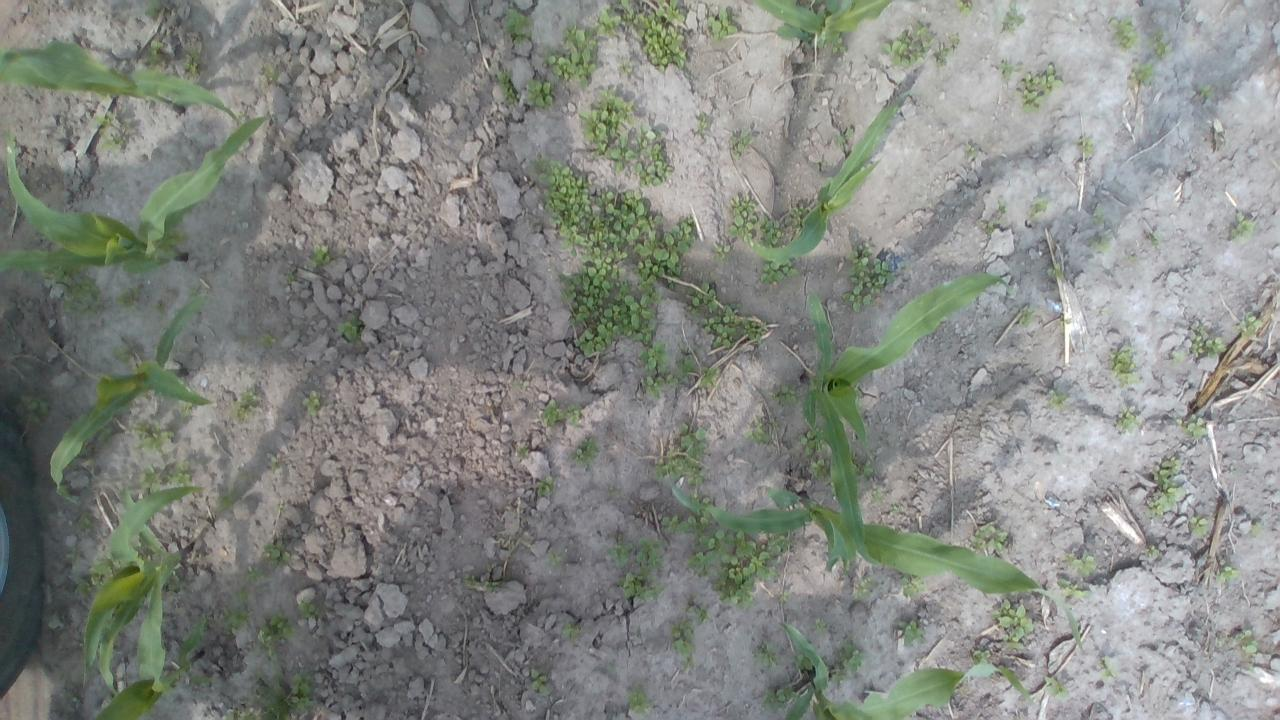Maize: (669, 480, 1086, 656), (800, 273, 1014, 568), (0, 116, 269, 274), (48, 294, 211, 504), (776, 620, 1036, 720), (82, 484, 198, 694), (751, 98, 897, 264), (0, 40, 239, 127), (91, 567, 206, 720), (751, 0, 893, 45)
Weeds: (588, 187, 698, 291), (557, 250, 662, 358), (686, 528, 790, 608), (526, 155, 598, 257), (620, 0, 688, 75), (578, 88, 636, 174), (222, 672, 316, 720), (544, 23, 602, 90), (607, 536, 665, 603), (840, 244, 893, 314), (652, 424, 709, 484), (624, 122, 671, 187), (876, 21, 934, 68), (1013, 61, 1065, 113), (988, 597, 1034, 652), (698, 300, 744, 352), (54, 268, 102, 316), (73, 552, 118, 600), (1146, 458, 1180, 518), (254, 610, 300, 650), (1184, 324, 1228, 362), (726, 195, 759, 243), (670, 618, 698, 673), (134, 418, 176, 454), (832, 642, 864, 687), (1107, 344, 1140, 386), (683, 282, 720, 319), (94, 112, 126, 154), (1105, 16, 1142, 52), (660, 510, 712, 535), (225, 590, 253, 634), (704, 8, 740, 42), (970, 524, 1010, 554), (757, 258, 801, 284), (1234, 628, 1260, 672), (332, 314, 368, 344), (638, 342, 671, 374), (19, 393, 53, 424), (760, 684, 800, 710), (260, 538, 292, 570), (757, 212, 785, 248), (230, 389, 259, 423), (642, 373, 678, 400), (506, 9, 532, 45), (739, 316, 770, 346), (1174, 412, 1208, 439), (592, 8, 622, 38), (522, 80, 553, 108), (982, 200, 1008, 233), (166, 459, 194, 489), (1228, 212, 1258, 240), (624, 686, 652, 716), (540, 397, 566, 428), (308, 244, 336, 272), (897, 619, 926, 646), (139, 462, 162, 496), (742, 418, 772, 444), (1001, 0, 1025, 32), (729, 129, 754, 159), (1126, 61, 1154, 87), (900, 570, 926, 598), (784, 204, 808, 234), (798, 428, 822, 458), (1066, 554, 1096, 578), (1084, 229, 1113, 253), (1026, 196, 1050, 225), (574, 436, 598, 465), (496, 71, 516, 105), (754, 640, 780, 666), (773, 382, 800, 407), (1114, 404, 1138, 432), (674, 354, 698, 382), (179, 48, 201, 78), (806, 456, 831, 482), (852, 575, 877, 601), (213, 488, 240, 512), (1147, 31, 1170, 59), (241, 563, 268, 586), (146, 38, 168, 66), (528, 666, 550, 694), (112, 286, 142, 306), (1213, 559, 1238, 583), (164, 565, 184, 594), (1044, 675, 1069, 698), (1236, 312, 1258, 338), (302, 390, 321, 418), (296, 598, 320, 620), (827, 30, 848, 55), (1044, 389, 1068, 410), (1189, 516, 1211, 538), (686, 605, 710, 625), (996, 58, 1019, 78), (932, 43, 952, 66), (852, 461, 876, 480), (1059, 580, 1083, 599), (697, 366, 719, 386), (1048, 258, 1066, 282), (714, 241, 734, 262), (186, 673, 212, 689), (536, 478, 556, 498), (833, 126, 855, 144), (968, 648, 990, 666), (260, 63, 280, 82), (1090, 206, 1108, 226), (111, 345, 132, 362), (1098, 656, 1114, 678), (794, 652, 812, 671), (94, 424, 113, 441), (1076, 137, 1095, 154), (1016, 308, 1036, 324), (78, 510, 94, 530), (1250, 520, 1267, 537), (257, 333, 275, 349), (565, 405, 580, 424), (953, 0, 973, 14), (144, 0, 160, 17), (269, 455, 283, 474), (151, 302, 166, 319), (548, 550, 562, 568), (562, 622, 576, 640), (464, 574, 480, 589), (965, 144, 979, 160), (482, 580, 498, 594), (690, 494, 710, 505), (512, 378, 530, 389), (516, 444, 530, 458), (946, 32, 960, 46), (869, 488, 884, 501), (1198, 86, 1214, 98), (1144, 544, 1158, 557), (1150, 232, 1160, 248), (889, 503, 903, 514), (1170, 356, 1181, 368), (697, 113, 705, 128), (814, 622, 826, 632)
